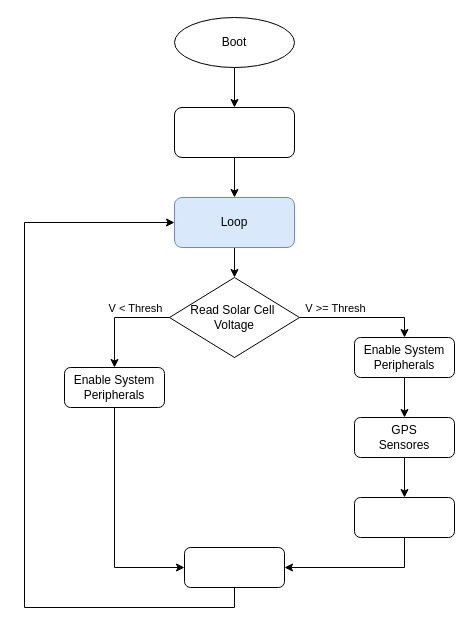
Some shapes in this 472 by 633 pixel diagram are drawn without their labels. The centre of each missing label's shape, as x and y in pixels:
"Init" goes at [234,132].
"Send LoRa" goes at [404,517].
"Sleep 10 min" goes at [234,567].
